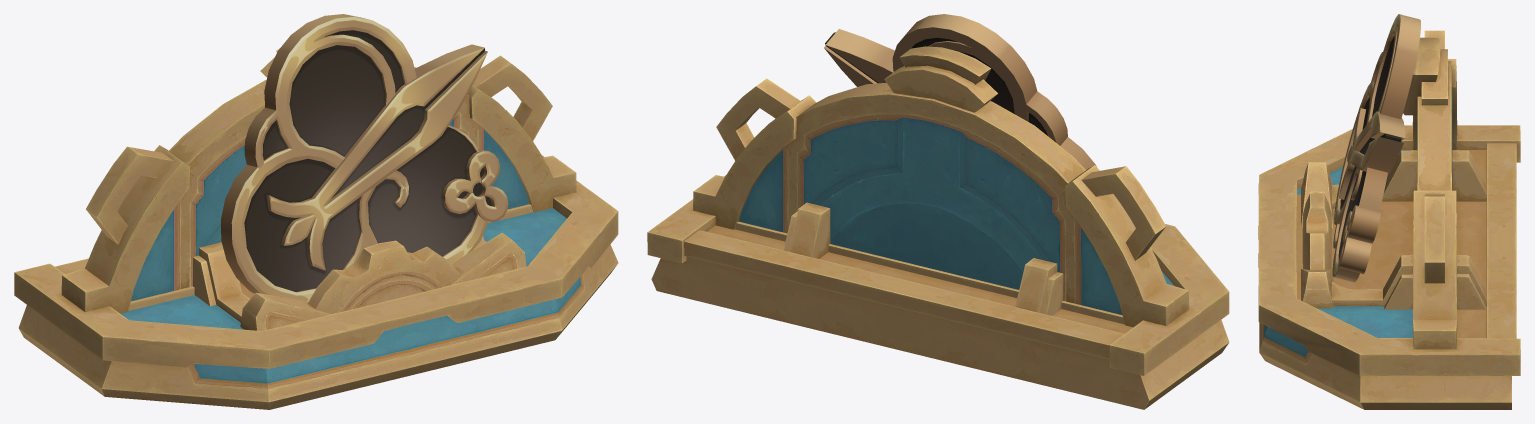
Rendered from Homeworld_Interior_Fd_Decoration_Prop_Qzxiongzhen_01_Vo.fbx.
The picture shows the model from 3 angles, left to right: view 1: azimuth 30°, elevation 25°; view 2: azimuth 150°, elevation 25°; view 3: azimuth 270°, elevation 25°; orthographic projection. The views are drawn at different scales.
Visible parts, largest first — view 1: Homeworld_Interior_Fd_Decoration_Prop_Qzxiongzhen_01_Vo, AvatarItem_PlayerBoy_ChioriLogoAvatar_Model; view 2: Homeworld_Interior_Fd_Decoration_Prop_Qzxiongzhen_01_Vo, AvatarItem_PlayerBoy_ChioriLogoAvatar_Model; view 3: Homeworld_Interior_Fd_Decoration_Prop_Qzxiongzhen_01_Vo, AvatarItem_PlayerBoy_ChioriLogoAvatar_Model.
Part boxes in pixels (box(x1,y1,x2,y2)): Homeworld_Interior_Fd_Decoration_Prop_Qzxiongzhen_01_Vo: box(14, 48, 618, 409); AvatarItem_PlayerBoy_ChioriLogoAvatar_Model: box(221, 14, 508, 301); Homeworld_Interior_Fd_Decoration_Prop_Qzxiongzhen_01_Vo: box(647, 46, 1229, 409); AvatarItem_PlayerBoy_ChioriLogoAvatar_Model: box(824, 14, 1096, 169); Homeworld_Interior_Fd_Decoration_Prop_Qzxiongzhen_01_Vo: box(1258, 30, 1520, 409); AvatarItem_PlayerBoy_ChioriLogoAvatar_Model: box(1332, 14, 1420, 282).
Size of the model in its own units: 0.6159 by 0.3445 by 0.2968.
2 materials, 2 textured.
